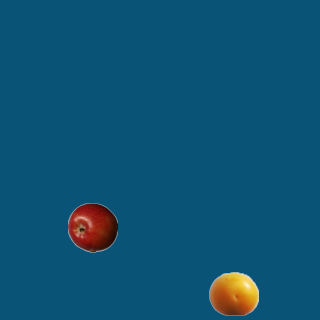Apple Braeburn: (67, 202, 117, 252)
Cherry Wax Yellow: (208, 268, 258, 318)
